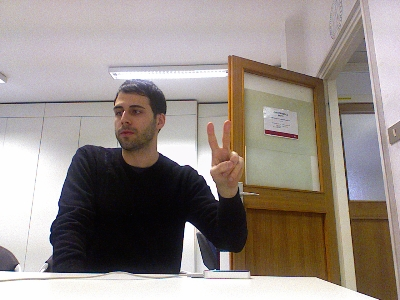剪刀: (206, 119, 245, 192)
